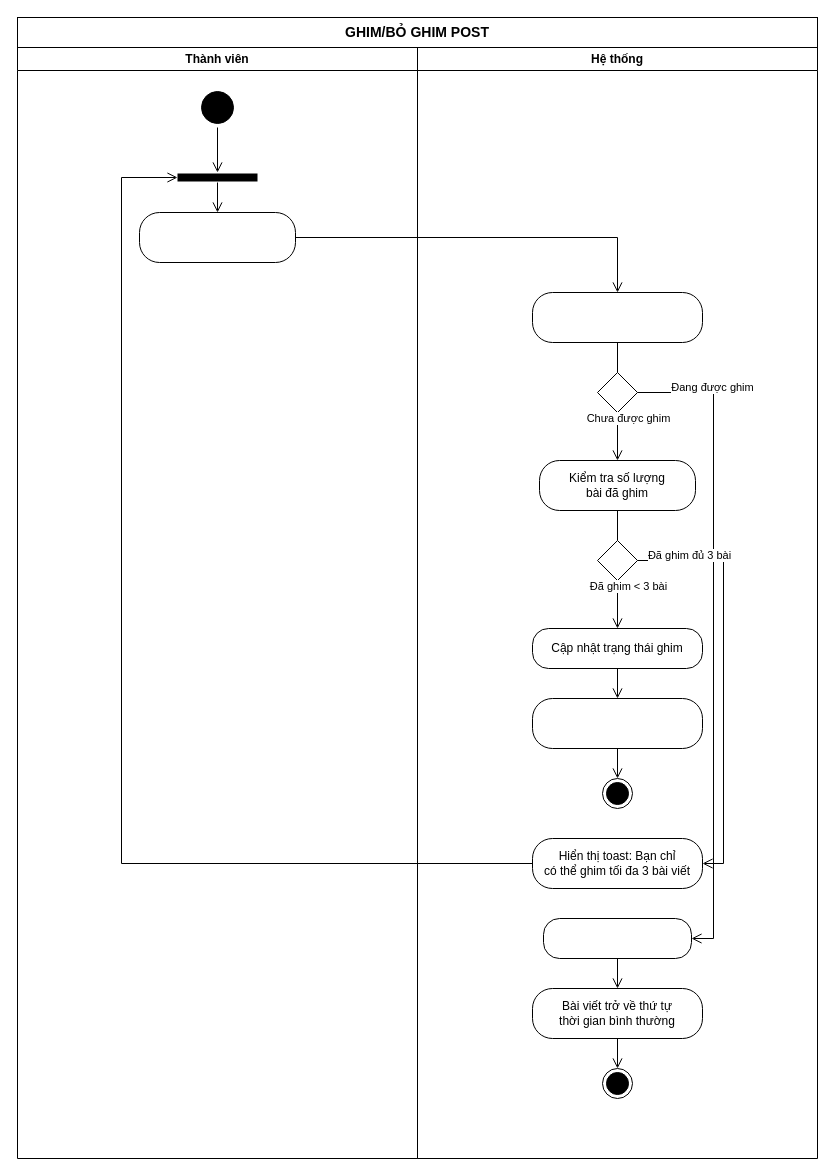
The diagram is 835 pixels wide and 1176 high, and some of its shapes have lost their labels. The shapes that lost their labels are listed below. From the top down, each one's centre as x and y in pixels, then its label:
the point at 217,237: Nhấn Ghim/Bỏ ghim trong menu ⋯
the point at 617,317: Xác định trạng thái ghim hiện tại
the point at 617,723: Hiển thị bài đầu danh sách kèm badge Đã ghim
the point at 617,938: Gỡ ghim bài viết
